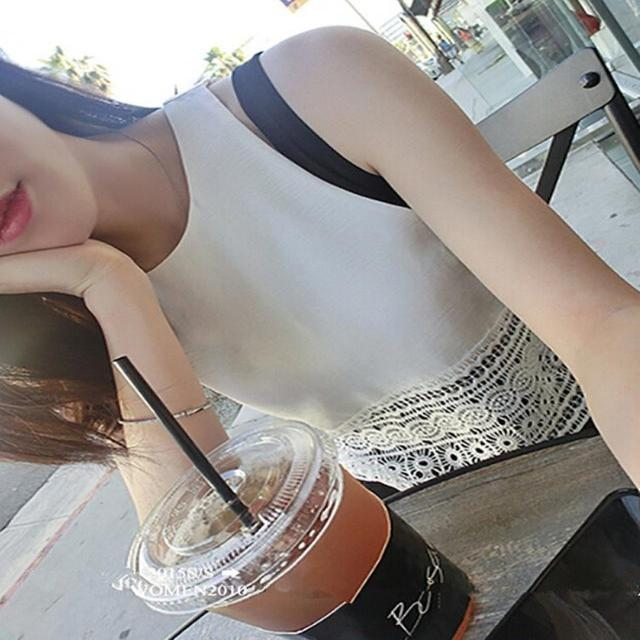vest: (16, 79, 634, 492)
vest dress: (12, 52, 638, 572)
